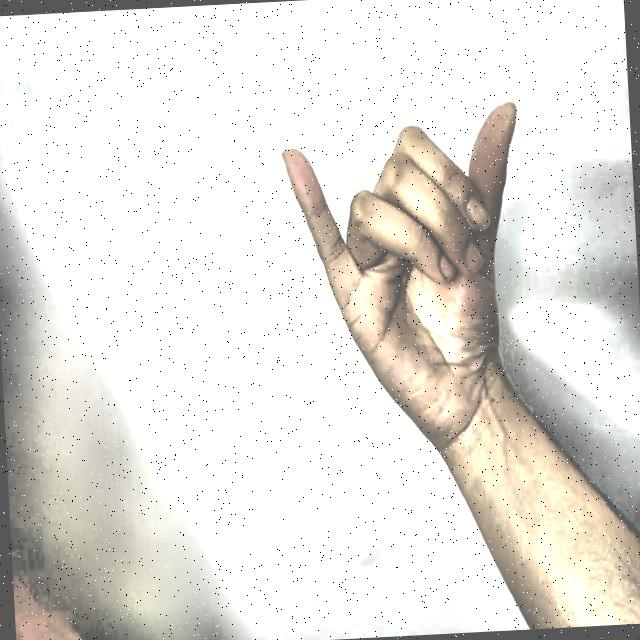Oi: (253, 56, 571, 493)
